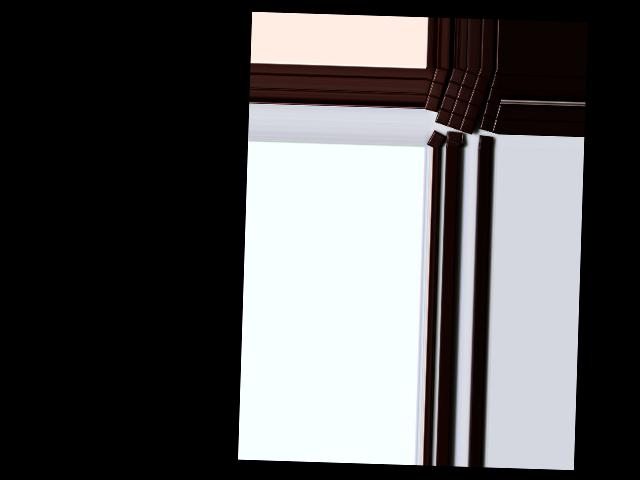chocolate: (433, 66, 491, 133)
